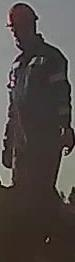gloves: (57, 123, 75, 159), (0, 136, 15, 169)
helmet: (4, 0, 43, 27)
vest: (7, 44, 72, 159)
